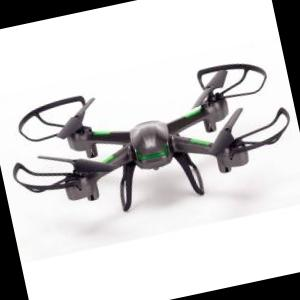drone: (0, 42, 300, 245)
